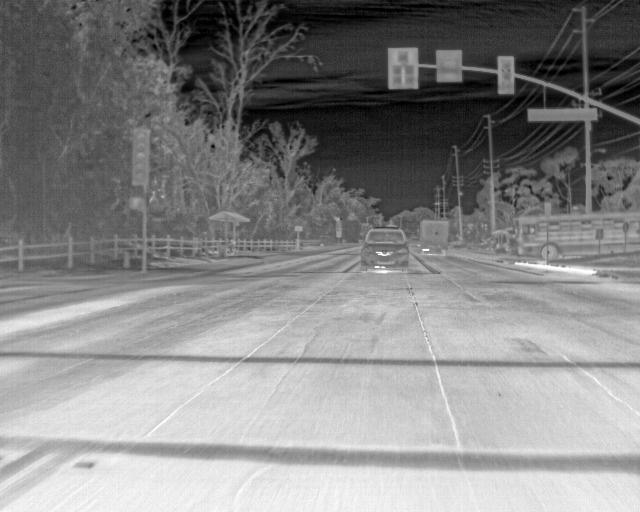car: (360, 226, 411, 273)
